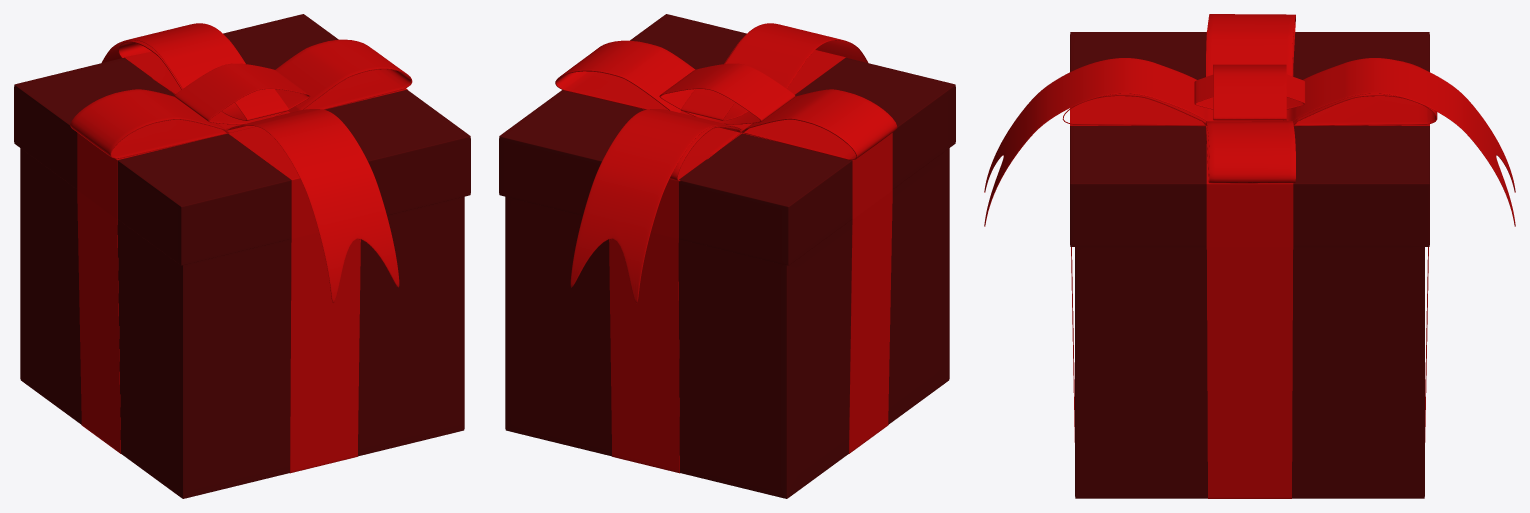
Rendered from gift.fbx.
The picture shows the model from 3 angles, left to right: view 1: azimuth 30°, elevation 25°; view 2: azimuth 150°, elevation 25°; view 3: azimuth 270°, elevation 25°; orthographic projection. The views are drawn at different scales.
Parts seen in each view (by area): view 1: Box001; view 2: Box001; view 3: Box001.
Part boxes in pixels (x1,y1,x2,y2): Box001: (14, 14, 470, 498); Box001: (499, 14, 955, 498); Box001: (984, 14, 1515, 498).
Bounding box in the file's own units: 161 × 167 × 228.
